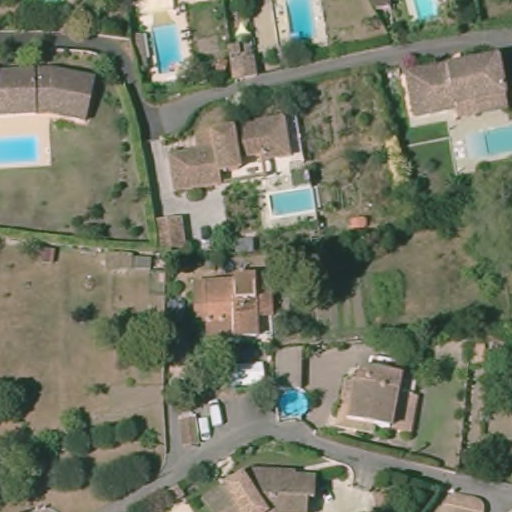pool: (144, 22, 194, 79), (276, 1, 323, 48), (259, 187, 324, 219), (1, 132, 44, 166), (481, 116, 512, 159), (276, 388, 313, 420), (407, 1, 445, 25)
